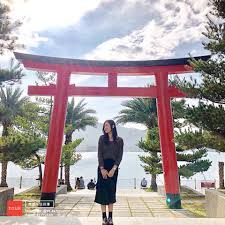people: (98, 120, 123, 225)
